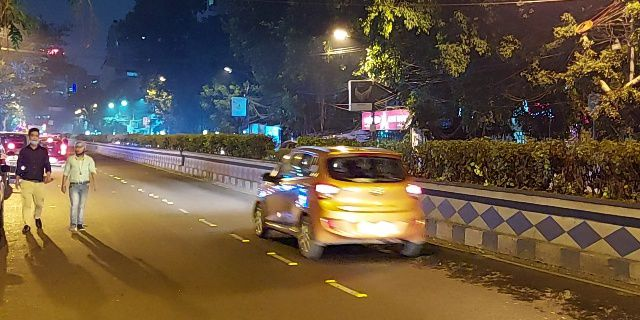Car: (254, 148, 429, 264)
